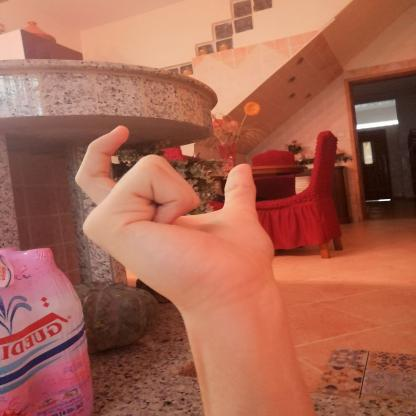NOON: (59, 113, 291, 327)
